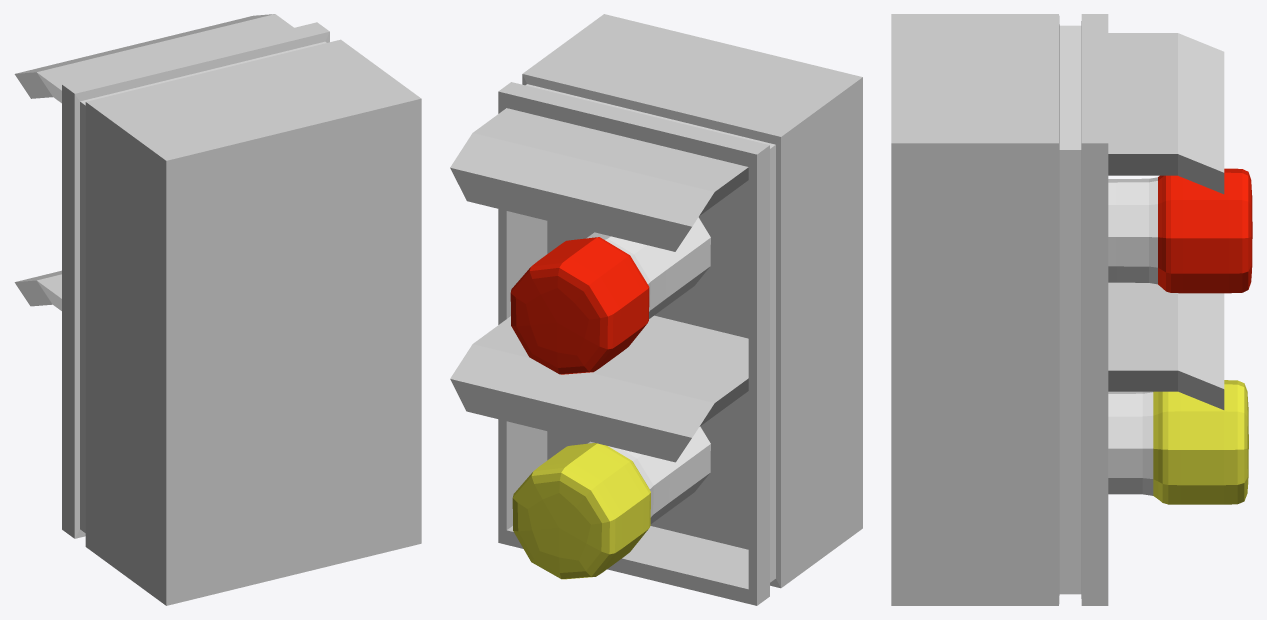
Rendered from DoorButton.fbx.
3 views of the same model, side by side, from view 1: azimuth 30°, elevation 25°; view 2: azimuth 150°, elevation 25°; view 3: azimuth 270°, elevation 25° (orthographic). The views are drawn at different scales.
Visible parts, largest first — view 1: DoorButtonFrame; view 2: DoorButtonFrame, UpperButton, LowerButton; view 3: DoorButtonFrame, UpperButton, LowerButton.
Part boxes in pixels (x1,y1,x2,y2): DoorButtonFrame: (14,14,421,605); DoorButtonFrame: (450,14,862,605); UpperButton: (510,217,710,374); LowerButton: (512,426,710,579); DoorButtonFrame: (891,14,1224,605); UpperButton: (1108,168,1252,293); LowerButton: (1108,380,1248,504).
Bounding box in the file's own units: 6 × 10 × 7.08.
